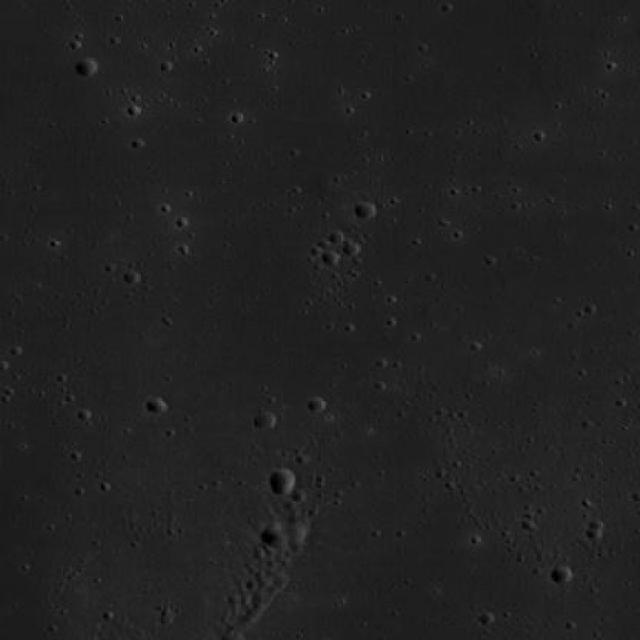crater: (268, 470, 298, 495), (262, 526, 290, 549), (551, 566, 574, 586), (354, 202, 378, 221), (286, 523, 308, 543), (74, 56, 97, 75), (254, 413, 276, 432), (148, 398, 168, 416), (222, 620, 242, 637)
